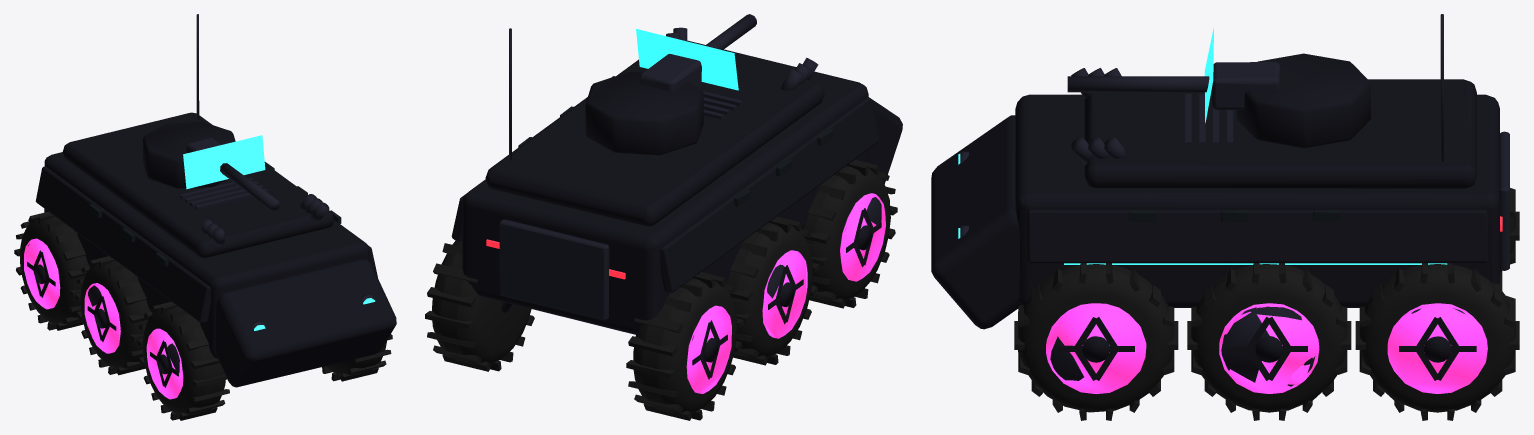
The model's file is apc_neon.glb.
3 views of the same model, side by side, from view 1: azimuth 30°, elevation 25°; view 2: azimuth 150°, elevation 25°; view 3: azimuth 270°, elevation 25° (orthographic). The views are drawn at different scales.
Visible parts, largest first — view 1: krop_net; view 2: krop_net; view 3: krop_net.
Part boxes in pixels (box(x1,y1,x2,y2)): krop_net: box(14, 14, 396, 420); krop_net: box(425, 14, 902, 420); krop_net: box(931, 14, 1519, 420).
Size of the model in its own units: 1.21 by 1.54 by 2.17.
